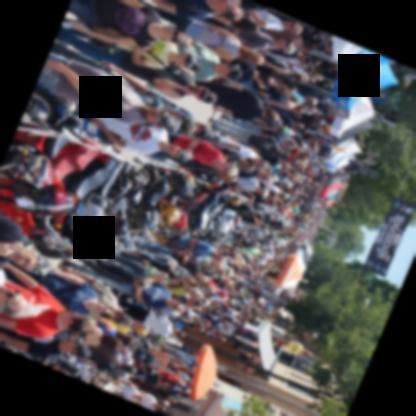backpack: (172, 0, 216, 17)
handbag: (86, 34, 164, 66), (89, 22, 156, 45), (205, 44, 238, 47), (132, 271, 146, 278)
